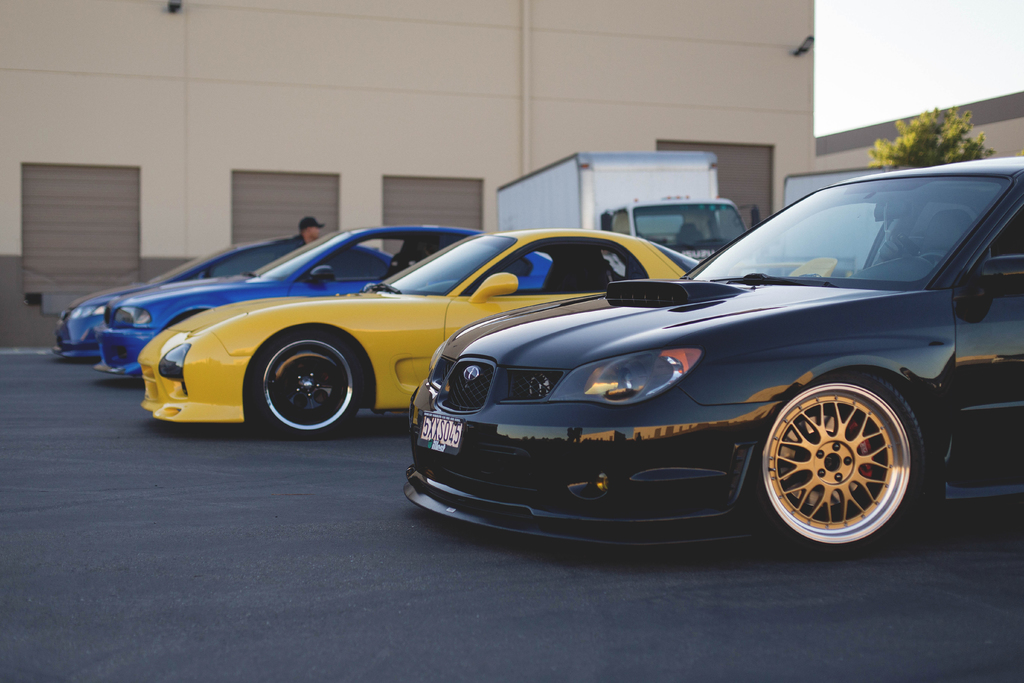cars: (398, 180, 1017, 562), (140, 230, 692, 430), (95, 223, 454, 377), (56, 237, 299, 362)
